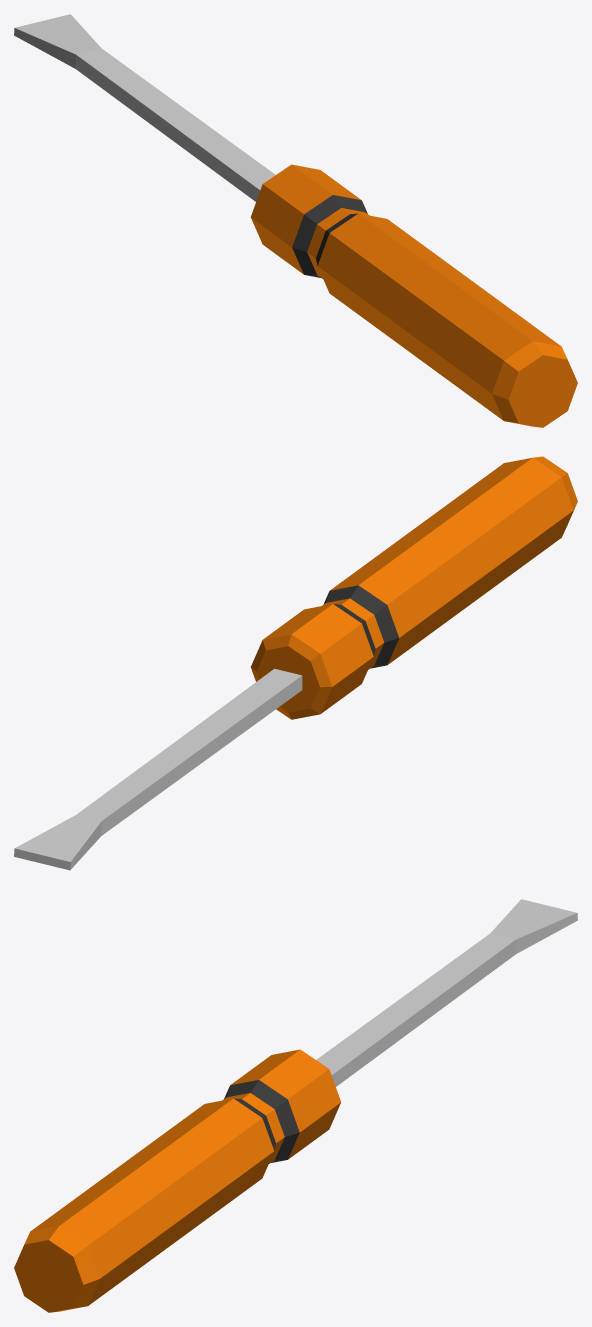
The model's file is screwdriver_1.glb.
3 views of the same model, one above another, from view 1: azimuth 30°, elevation 25°; view 2: azimuth 150°, elevation 25°; view 3: azimuth 330°, elevation 25° (orthographic).
Visible parts, largest first — view 1: Screwdriver 2; view 2: Screwdriver 2; view 3: Screwdriver 2.
Boxes of the visible parts, x1,y1,x2,y2 form: Screwdriver 2: [14, 14, 577, 427]; Screwdriver 2: [14, 456, 577, 870]; Screwdriver 2: [14, 899, 577, 1312].
Size of the model in its own units: 0.0254 by 0.0254 by 0.2702.
1 material, 1 textured.
